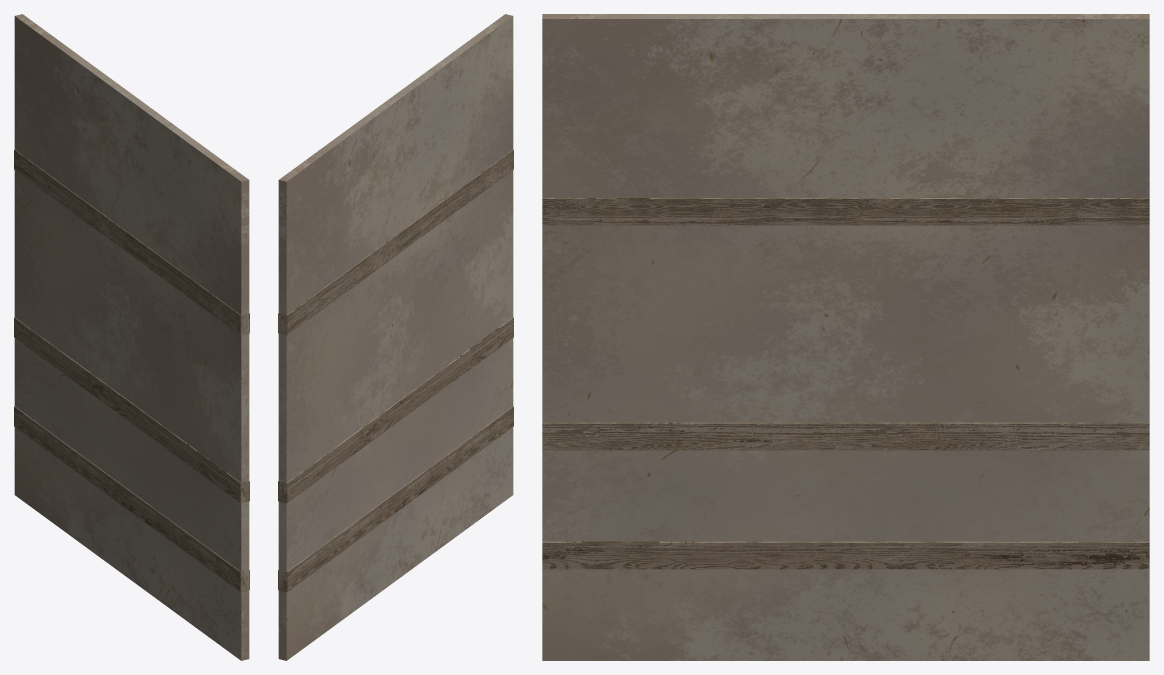
File: SM_GPG_Wall02a.fbx
3 renders of one model, left to right at view 1: azimuth 30°, elevation 25°; view 2: azimuth 150°, elevation 25°; view 3: azimuth 270°, elevation 25°, orthographic. The views are drawn at different scales.
Parts seen in each view (by area): view 1: SM_GPG_Wall02a; view 2: SM_GPG_Wall02a; view 3: SM_GPG_Wall02a.
Boxes of the visible parts, box(x1,y1,x2,y2) form: SM_GPG_Wall02a: box(14, 14, 249, 660); SM_GPG_Wall02a: box(278, 14, 513, 660); SM_GPG_Wall02a: box(542, 14, 1149, 660).
Size of the model in its own units: 7 by 300 by 350.
Materials: 2 (2 with a texture image).
